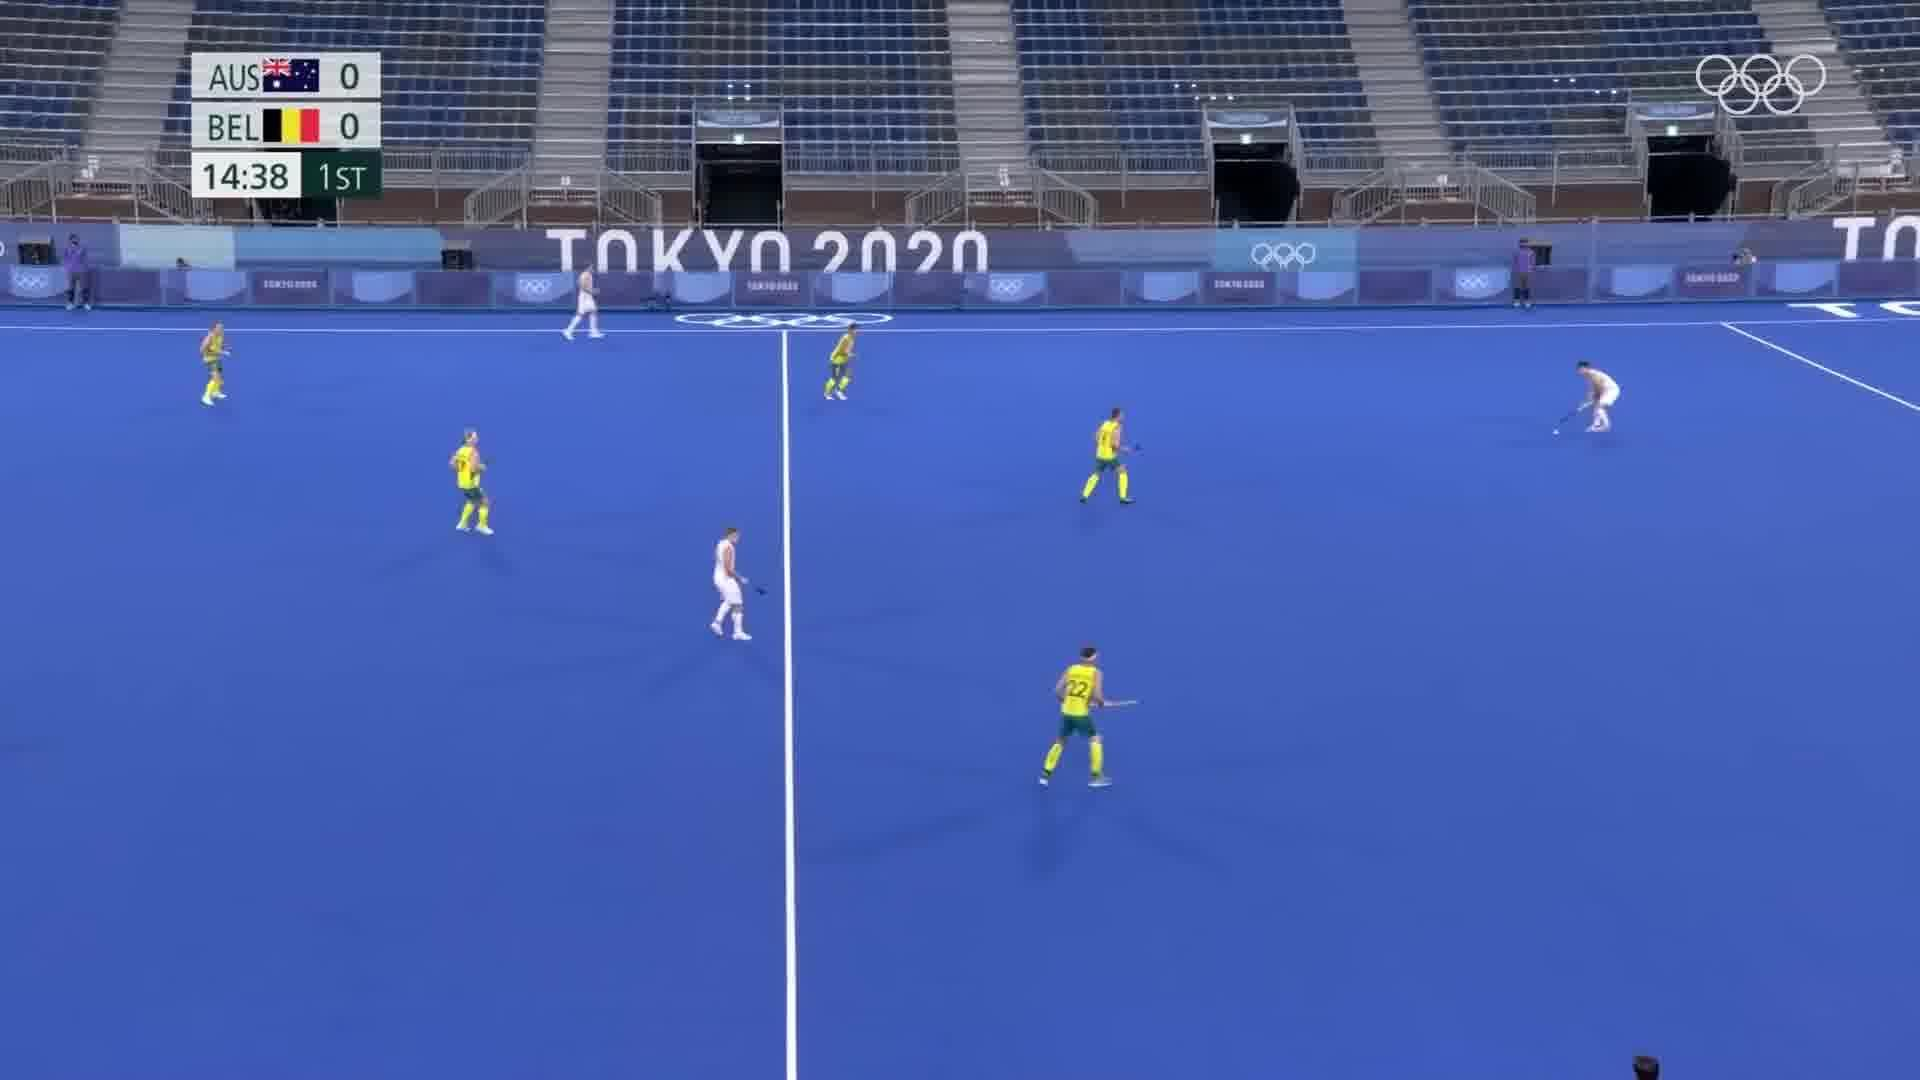ball: (1539, 411, 1567, 446)
